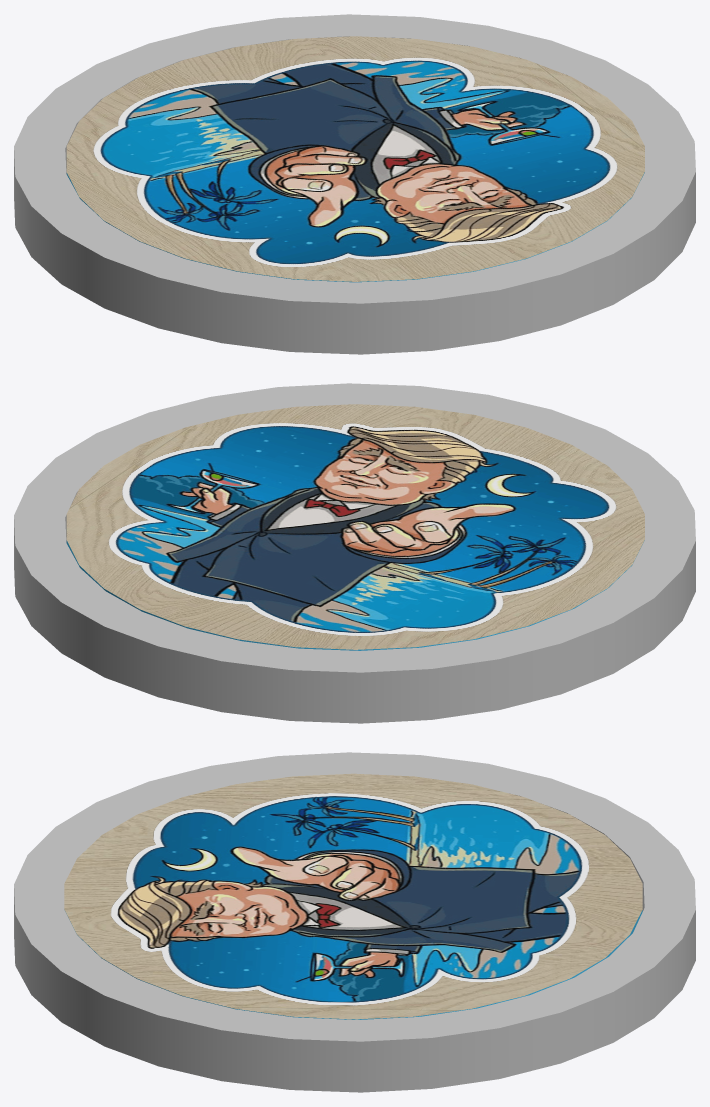
File: Puzzle_25.FBX
The picture shows the model from 3 angles, top to bottom: view 1: azimuth 30°, elevation 25°; view 2: azimuth 150°, elevation 25°; view 3: azimuth 270°, elevation 25°; orthographic projection.
Visible parts, largest first — view 1: Cylinder002, 068, 069, 072, 070, 067, 074, 075, 071, 073, 076; view 2: Cylinder002, 068, 069, 072, 070, 067, 074, 075, 071, 073, 076; view 3: Cylinder002, 068, 069, 072, 070, 067, 074, 075, 071, 073, 076.
Boxes of the visible parts, x1,y1,x2,y2 form: Cylinder002: (14, 14, 695, 354); 068: (104, 149, 415, 282); 069: (391, 146, 644, 279); 072: (308, 36, 606, 134); 070: (356, 97, 644, 224); 067: (271, 159, 424, 255); 074: (140, 36, 355, 110); 075: (67, 77, 246, 153); 071: (286, 86, 453, 158); 073: (193, 93, 355, 182); 076: (66, 146, 157, 220); Cylinder002: (14, 383, 695, 723); 068: (402, 445, 644, 614); 069: (185, 404, 571, 478); 072: (66, 465, 256, 591); 070: (104, 427, 455, 526); 067: (356, 462, 572, 541); 074: (104, 575, 319, 647); 075: (295, 571, 473, 650); 071: (186, 503, 355, 585); 073: (255, 527, 454, 599); 076: (449, 575, 607, 639); Cylinder002: (14, 752, 695, 1092); 068: (77, 773, 487, 872); 069: (64, 858, 283, 1008); 072: (353, 919, 605, 1019); 070: (183, 889, 353, 1019); 067: (137, 832, 353, 903); 074: (516, 858, 642, 958); 075: (421, 797, 629, 873); 071: (353, 891, 523, 954); 073: (342, 848, 523, 903); 076: (353, 773, 523, 818).
Size of the model in its own units: 4.04 by 0.3346 by 4.03.
